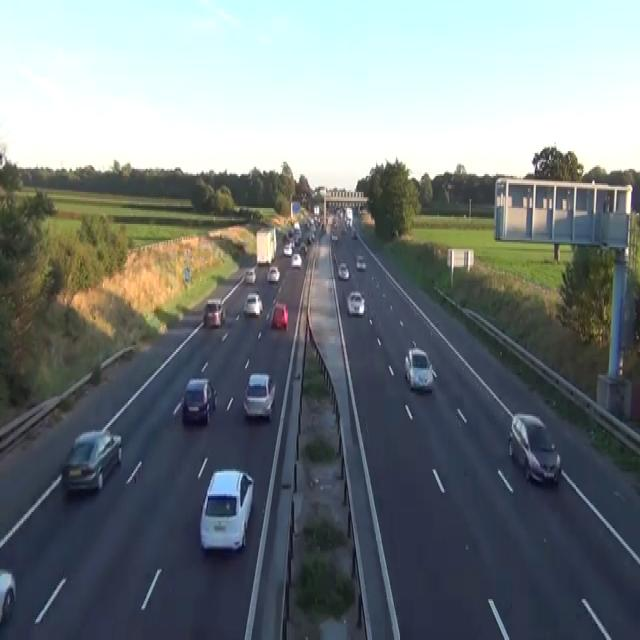Car: (199, 468, 254, 551), (60, 428, 122, 492), (508, 412, 561, 486), (282, 215, 318, 269), (181, 377, 217, 425), (242, 372, 275, 419), (404, 347, 436, 393), (0, 567, 16, 626), (202, 299, 226, 327), (271, 302, 288, 331), (243, 292, 263, 316), (347, 290, 365, 316), (266, 265, 280, 283), (337, 261, 349, 279), (290, 252, 302, 268), (355, 254, 366, 270), (245, 266, 256, 282), (0, 146, 6, 170), (283, 242, 292, 256), (330, 231, 338, 242), (299, 242, 307, 252), (293, 221, 300, 231), (351, 228, 357, 238), (288, 228, 294, 236)
Truck: (256, 226, 276, 265)
